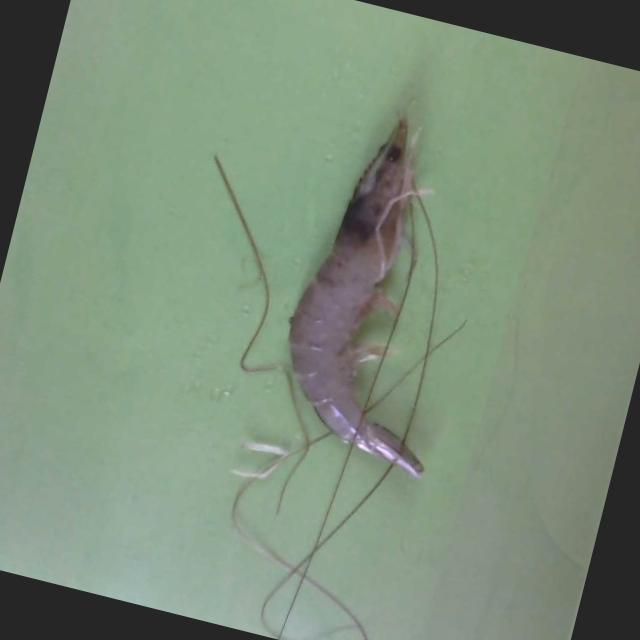shrimp: (289, 117, 423, 476)
